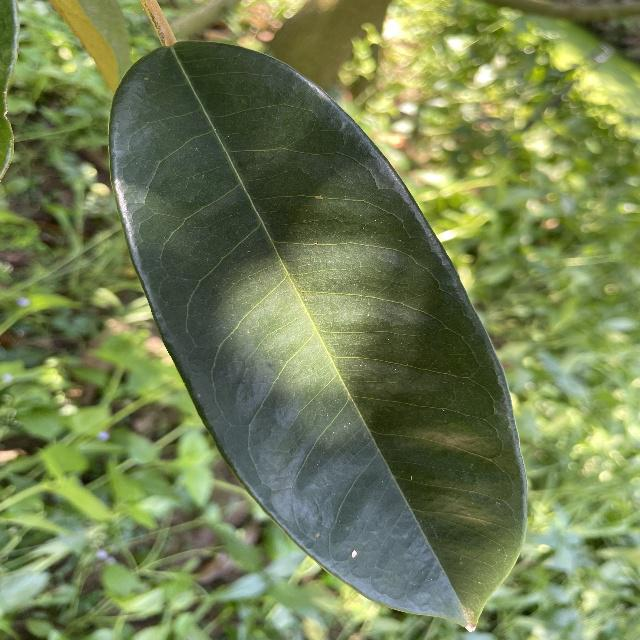No Disease: (103, 29, 539, 639)
